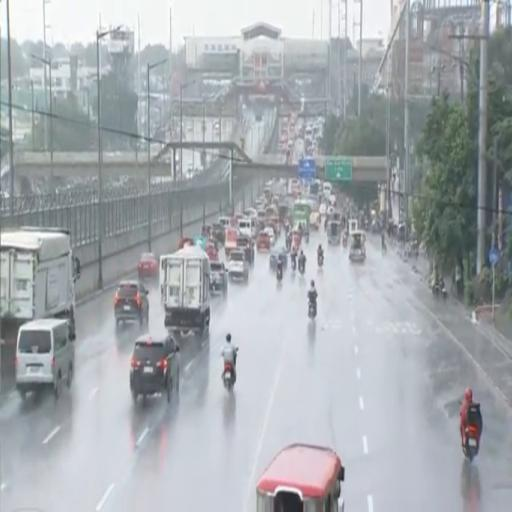car: (130, 334, 179, 403), (114, 280, 149, 327), (228, 249, 248, 282), (210, 261, 227, 295), (138, 253, 158, 279), (237, 236, 254, 265), (270, 247, 287, 269), (256, 231, 270, 251), (212, 223, 224, 244), (264, 226, 275, 245)
motorcycle: (463, 425, 479, 461), (223, 362, 235, 391), (432, 282, 447, 300), (309, 300, 316, 319), (317, 254, 324, 268), (276, 267, 282, 281), (298, 264, 305, 275), (286, 237, 291, 252), (342, 234, 347, 247), (291, 258, 296, 271), (304, 233, 309, 243)
truck: (0, 228, 80, 344), (160, 247, 210, 334)
